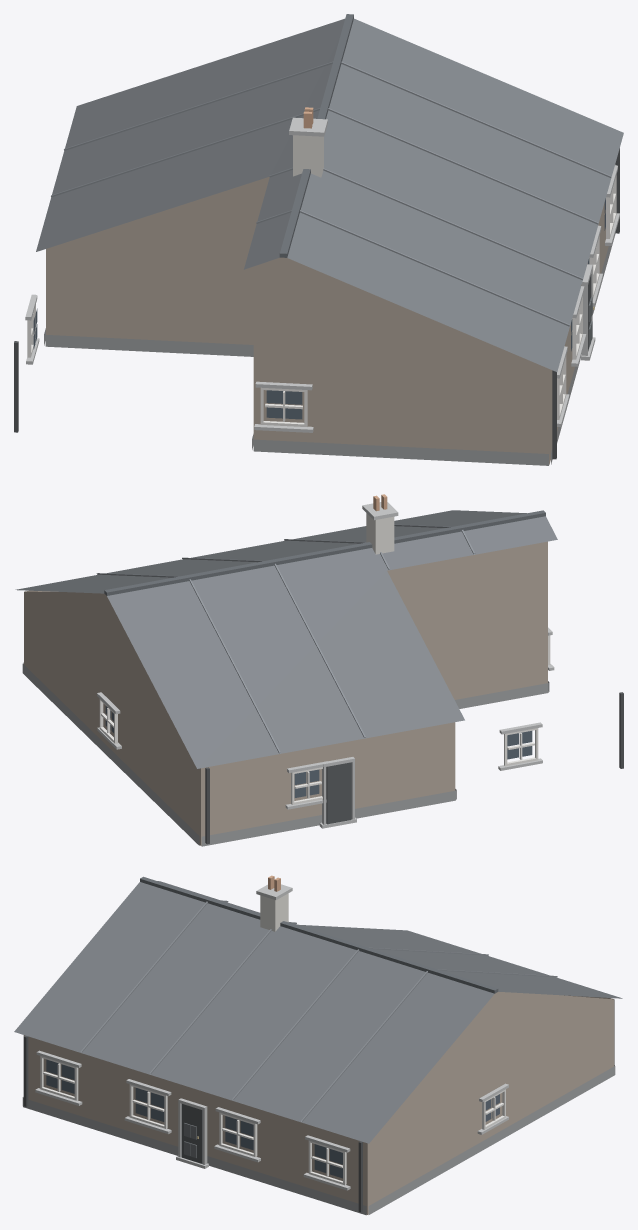
3 views of the same model, one above another, from view 1: azimuth 30°, elevation 25°; view 2: azimuth 150°, elevation 25°; view 3: azimuth 270°, elevation 25° (orthographic). The views are drawn at different scales.
Parts seen in each view (by area): view 1: slate, harl_brown, plinth, slate_lt, stone_band, frame, slate_dk, pipe, chim_render; view 2: slate, harl_brown, plinth, slate_dk, stone_band, slate_lt, frame, door_dark, chim_render, pipe; view 3: slate, harl_brown, plinth, stone_band, frame, slate_lt, slate_dk, chim_render, door_dark, pipe.
Part boxes in pixels (bbox=[...]): slate: bbox=[36, 18, 623, 371]; harl_brown: bbox=[46, 177, 608, 464]; plinth: bbox=[44, 233, 615, 465]; slate_lt: bbox=[51, 61, 611, 326]; stone_band: bbox=[25, 117, 619, 432]; frame: bbox=[27, 175, 616, 426]; slate_dk: bbox=[279, 14, 353, 257]; pipe: bbox=[14, 148, 619, 459]; chim_render: bbox=[293, 135, 323, 177]; slate: bbox=[15, 510, 557, 768]; harl_brown: bbox=[24, 541, 547, 845]; plinth: bbox=[22, 662, 549, 846]; slate_dk: bbox=[104, 510, 545, 595]; stone_band: bbox=[97, 502, 554, 828]; slate_lt: bbox=[96, 524, 474, 753]; frame: bbox=[99, 635, 550, 804]; door_dark: bbox=[326, 762, 351, 824]; chim_render: bbox=[366, 513, 394, 554]; pipe: bbox=[205, 692, 623, 844]; slate: bbox=[14, 881, 622, 1143]; harl_brown: bbox=[23, 991, 614, 1214]; plinth: bbox=[22, 1065, 615, 1215]; stone_band: bbox=[35, 884, 508, 1190]; frame: bbox=[40, 1056, 505, 1185]; slate_lt: bbox=[80, 900, 557, 1121]; slate_dk: bbox=[140, 876, 498, 993]; chim_render: bbox=[260, 893, 288, 931]; door_dark: bbox=[181, 1104, 202, 1163]; pipe: bbox=[23, 999, 614, 1212].
Bounding box in the file's own units: 20.55 × 7.54 × 20.9.
